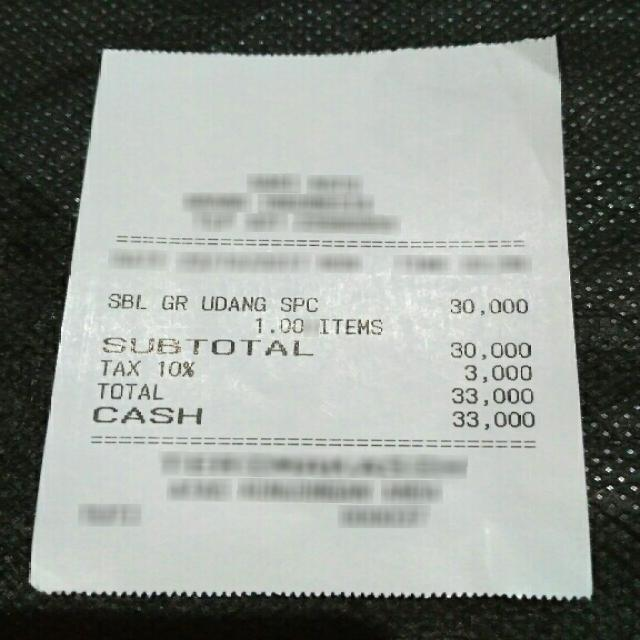kertas: (13, 37, 593, 615)
